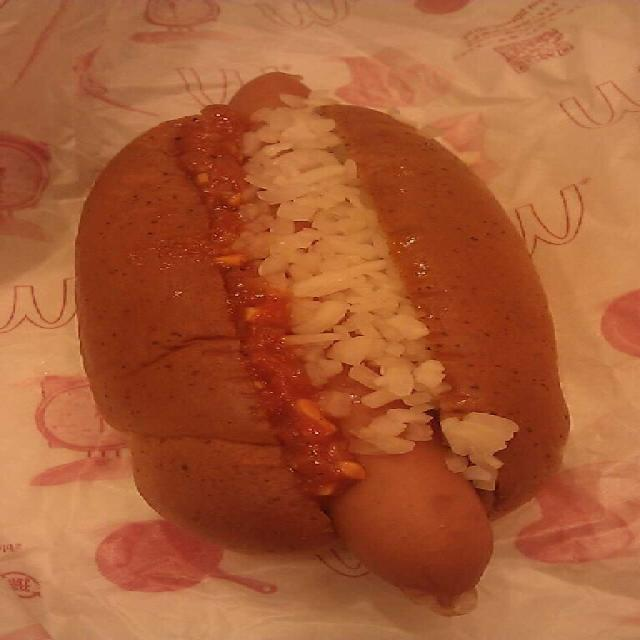Hot Dog: (65, 51, 590, 628)
